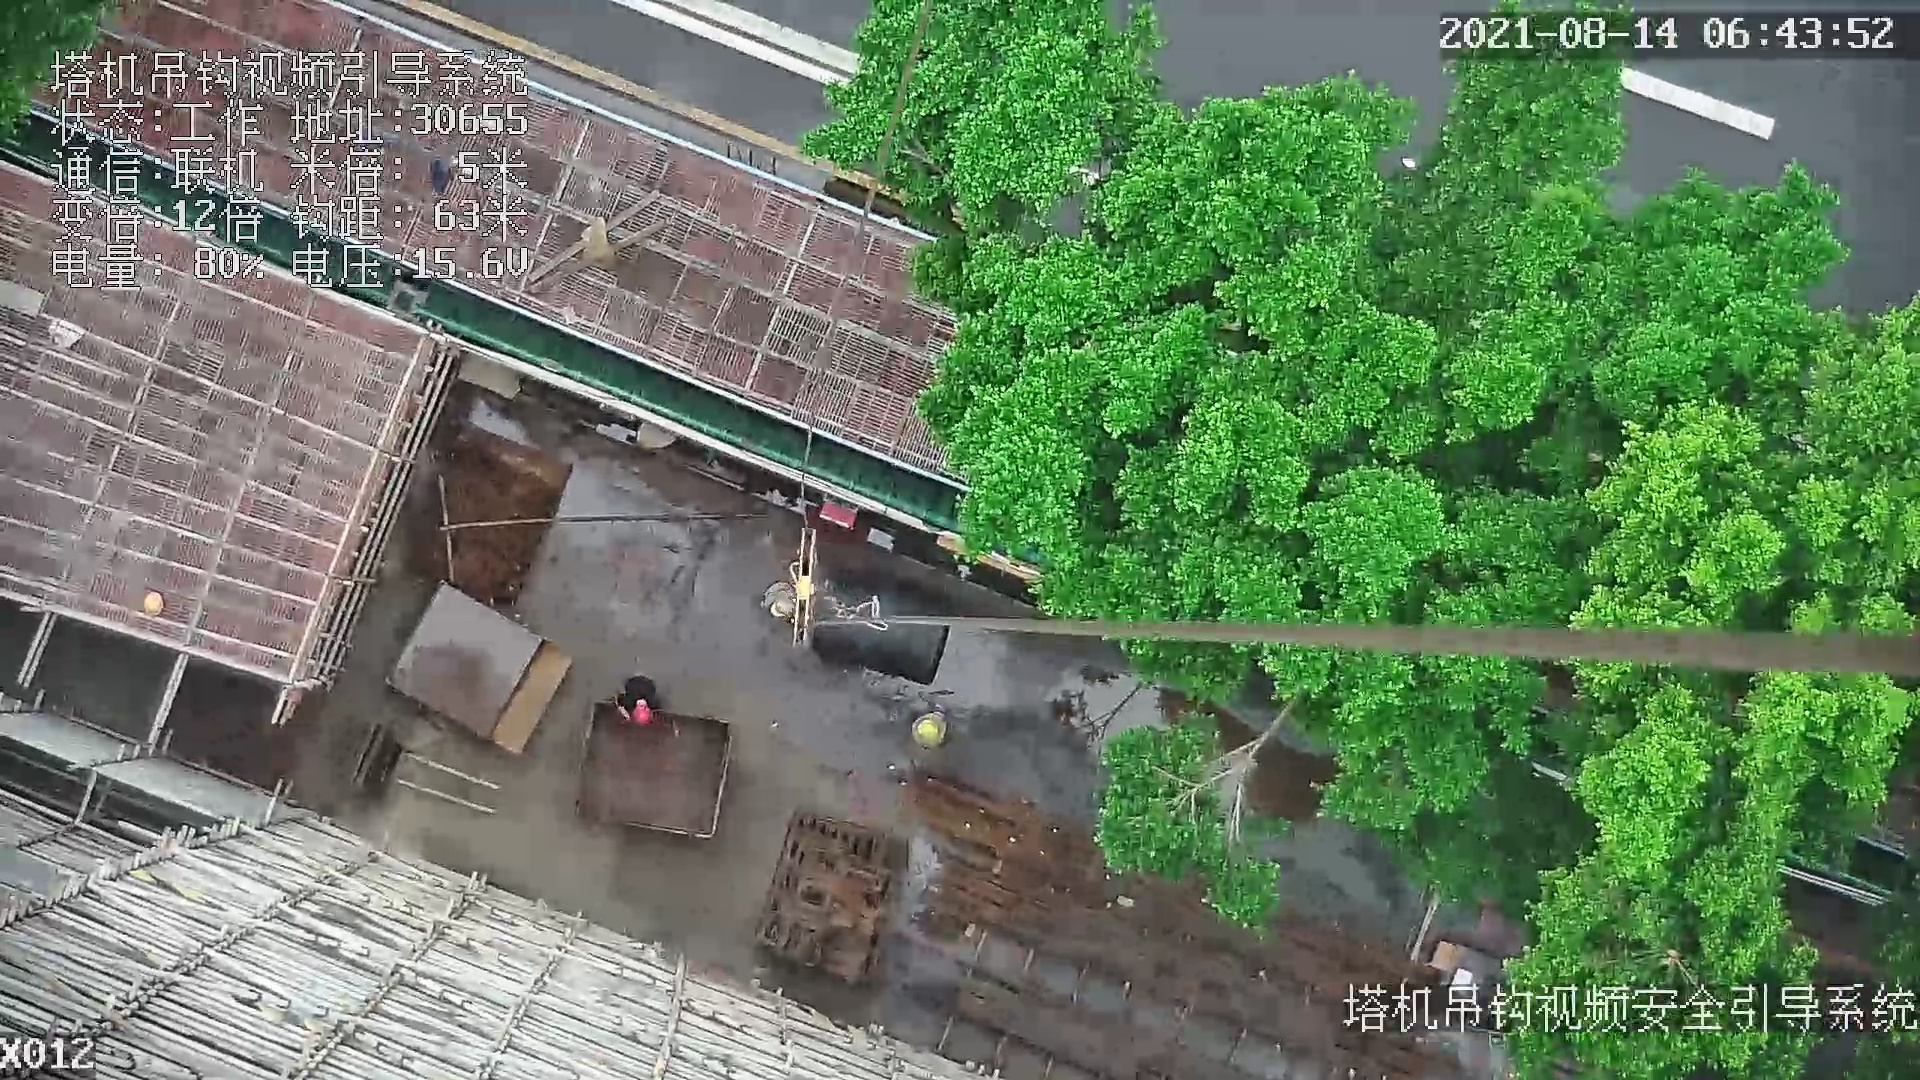helmet: (134, 591, 175, 619), (632, 705, 655, 731), (921, 719, 940, 746), (773, 601, 795, 616)
person: (606, 674, 669, 719), (910, 704, 954, 754), (759, 578, 799, 627)
